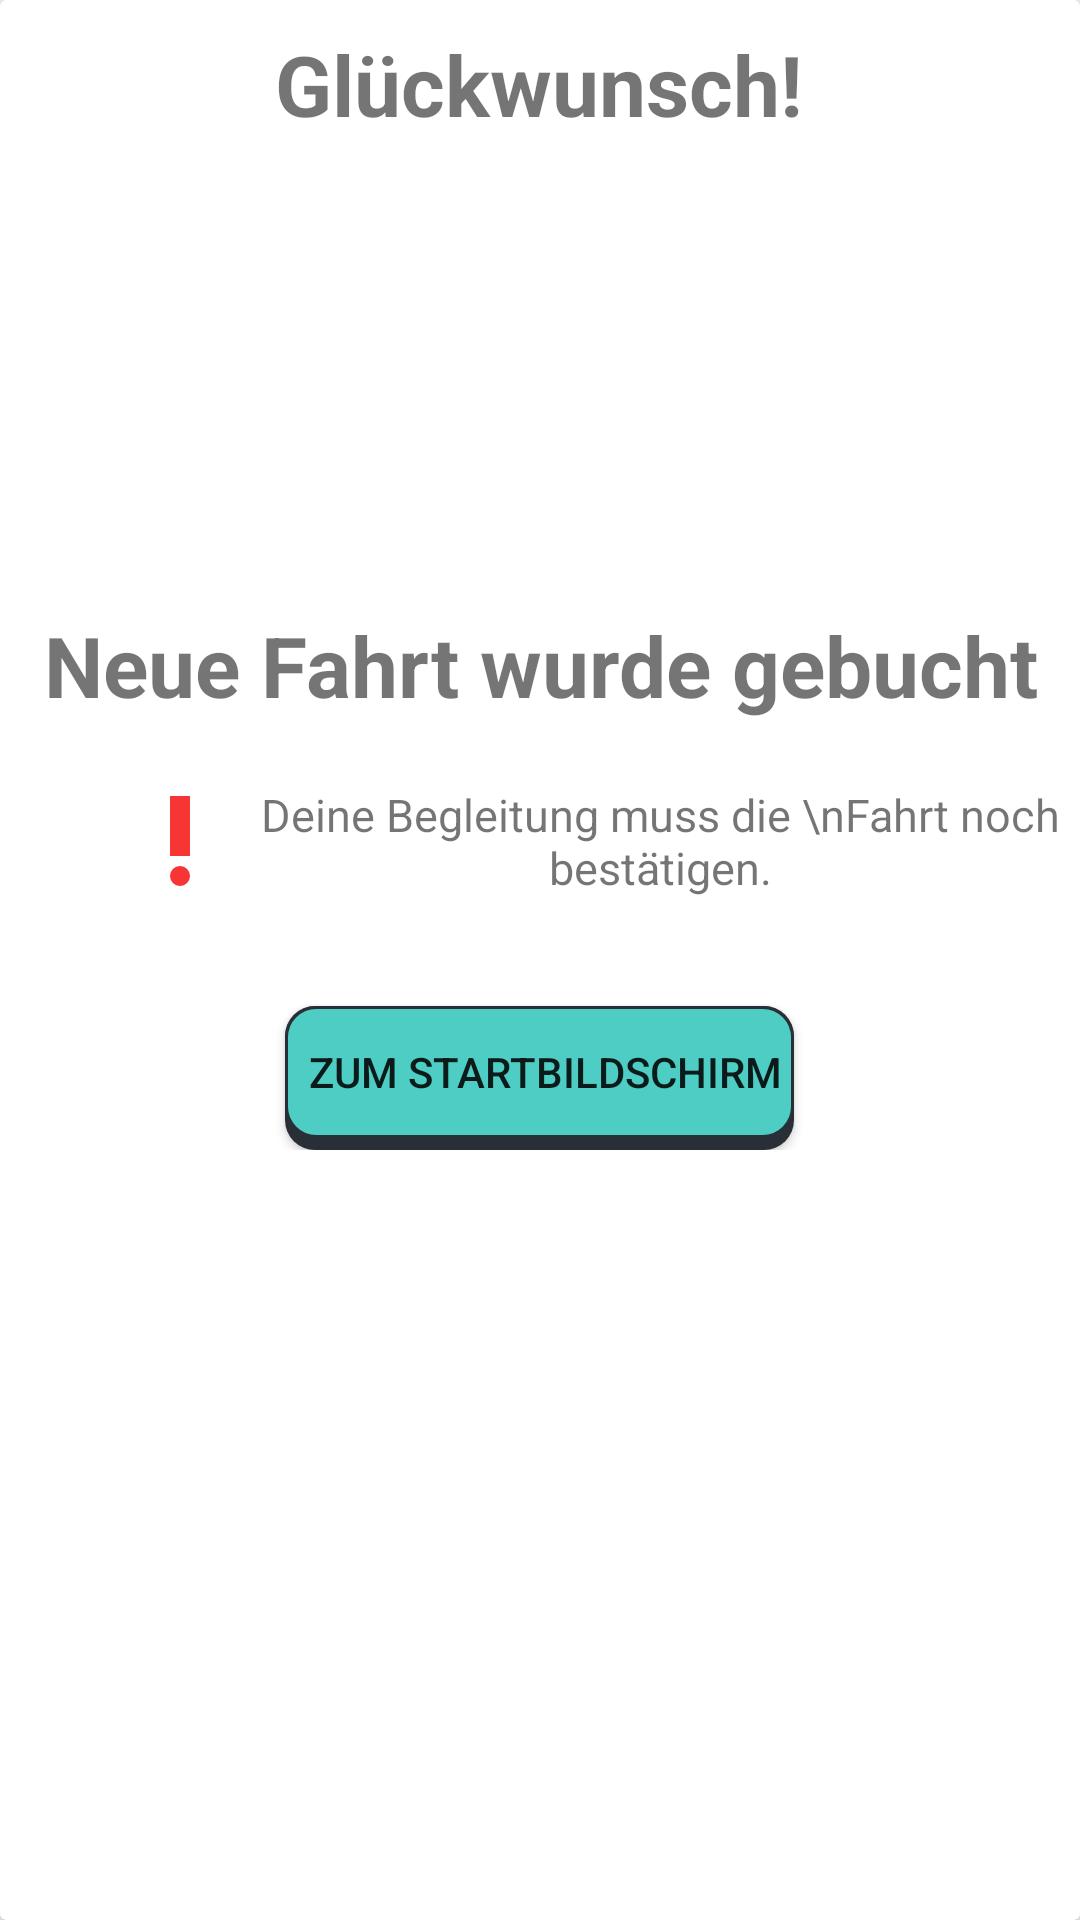

Screen size 1080w x 1920h. Icon name, then its center in pixels as (x,y):
priority high: (180,841)
